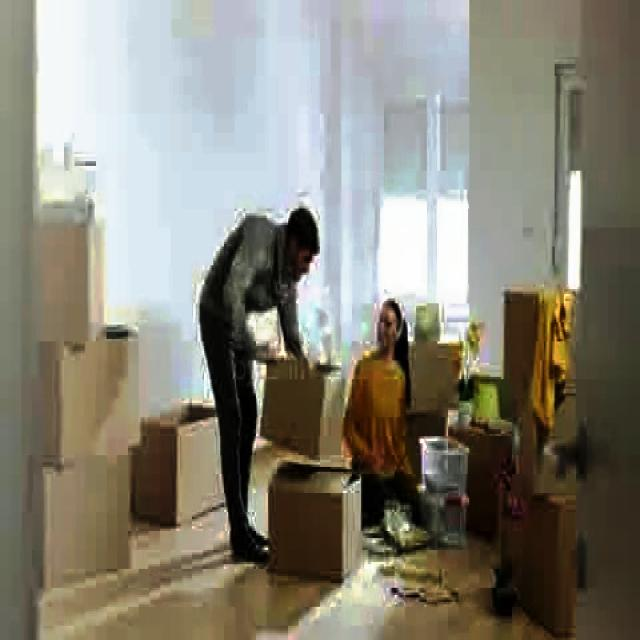Box: (48, 337, 141, 452), (279, 455, 369, 571), (42, 455, 134, 564), (143, 406, 229, 514), (35, 206, 105, 334), (263, 363, 336, 441)
